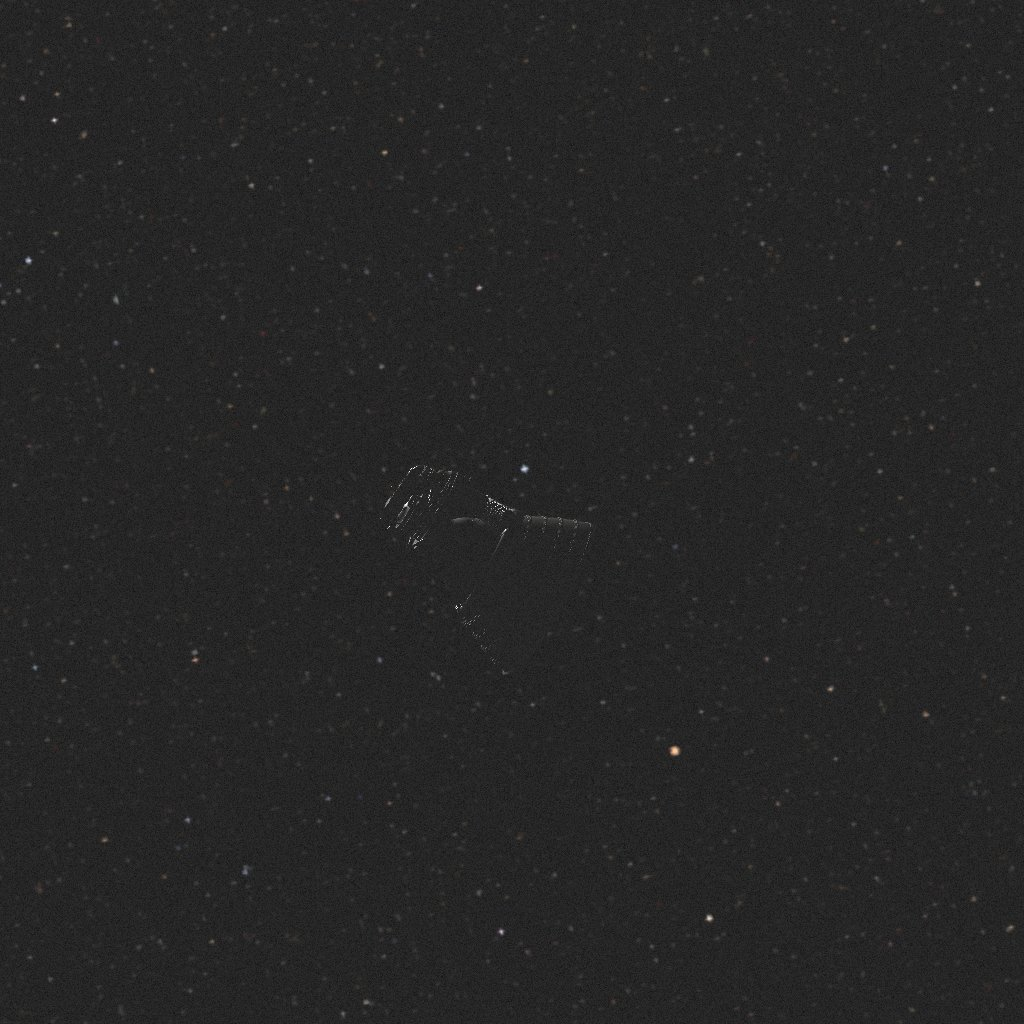debris: (380, 465, 595, 675)
